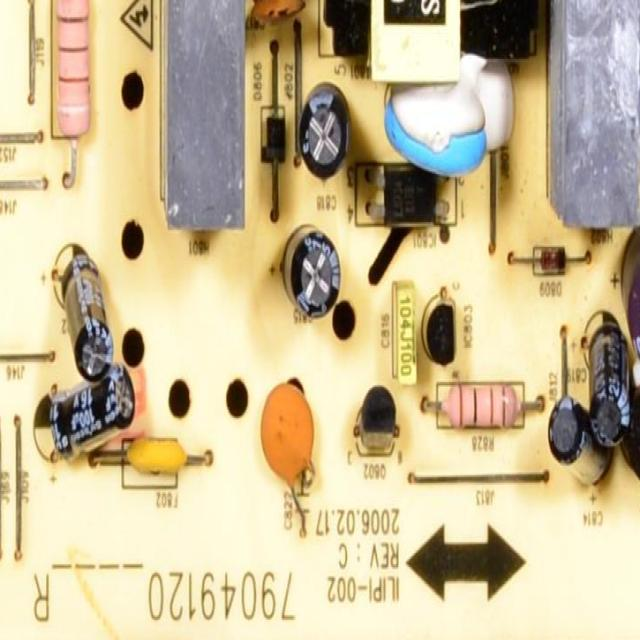capacitor: (55, 244, 112, 388), (385, 88, 479, 166), (39, 371, 135, 444), (286, 220, 340, 316), (551, 401, 603, 489), (590, 326, 628, 444), (302, 89, 347, 176), (622, 224, 640, 366), (394, 280, 417, 389)
resistor: (51, 0, 90, 143), (439, 384, 525, 428)
